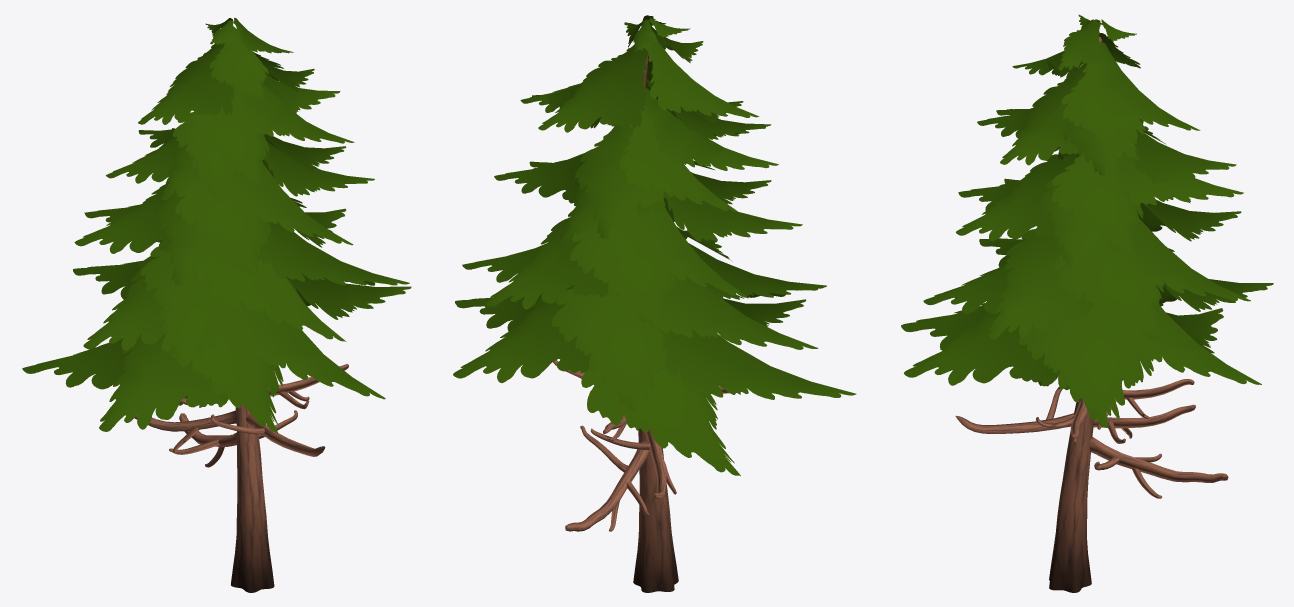
The model's file is control-library-conifer.glb.
3 renders of one model, left to right at view 1: azimuth 30°, elevation 25°; view 2: azimuth 150°, elevation 25°; view 3: azimuth 270°, elevation 25°, orthographic. The views are drawn at different scales.
Visible parts, largest first — view 1: control-library-conifer runtime mesh; view 2: control-library-conifer runtime mesh; view 3: control-library-conifer runtime mesh.
Boxes of the visible parts, x1,y1,x2,y2 form: control-library-conifer runtime mesh: (22, 18, 411, 592); control-library-conifer runtime mesh: (453, 15, 856, 592); control-library-conifer runtime mesh: (901, 14, 1273, 592).
Bounding box in the file's own units: 3.78 × 5.6 × 3.47.
Materials: 2 (2 with a texture image).
